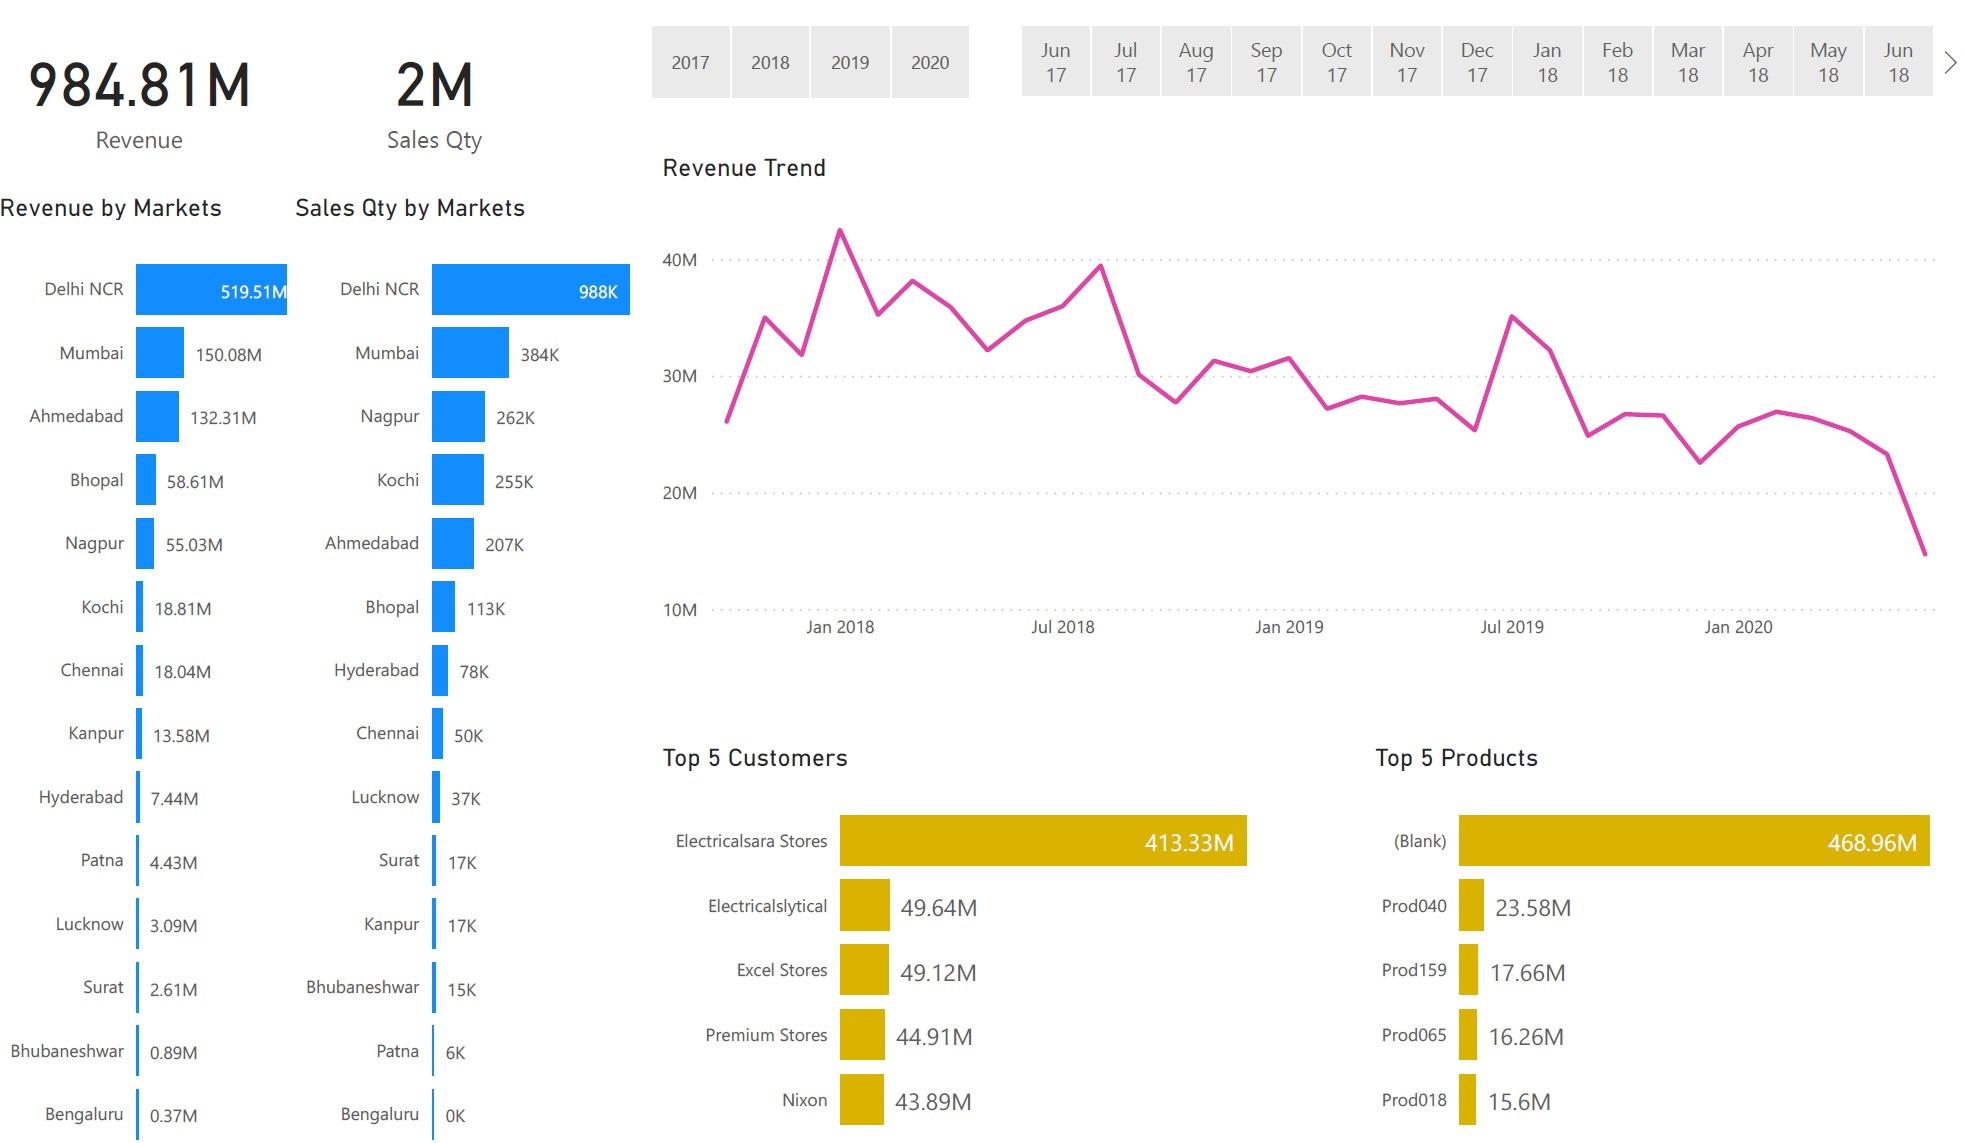

This screenshot's page, from the dashboard's own definition file:
{"tool":"powerbi","page":{"name":"Page 1","canvas":[1350,850],"ordinal":0},"visuals":[{"type":"card","fields":{"Values":["BaseMeasures.Revenue"]},"box":[0,19.8,201.2,137.9],"z":0},{"type":"card","fields":{"Values":["BaseMeasures.Sales Qty"]},"box":[201.6,19.8,200.9,137.5],"z":1000},{"type":"barChart","title":"Revenue by Markets","fields":{"Y":["BaseMeasures.Revenue"],"Category":["sales markets.markets_name"]},"box":[0,157.2,232.1,670.2],"z":2000},{"type":"barChart","title":"Sales Qty by Markets","fields":{"Y":["BaseMeasures.Sales Qty"],"Category":["sales markets.markets_name"]},"box":[201.6,157.2,240.2,670.2],"z":3000},{"type":"slicer","fields":{"Values":["sales date.cy_date"]},"box":[678.3,37.1,671.7,61.1],"z":4000},{"type":"slicer","fields":{"Values":["sales date.year"]},"box":[425,37.2,266.4,61.9],"z":5000},{"type":"barChart","title":"Top 5 Customers","fields":{"Y":["BaseMeasures.Revenue"],"Category":["sales customers.custmer_name"]},"box":[453.1,533.4,467.2,284.5],"z":6000},{"type":"barChart","title":"Top 5 Products","fields":{"Y":["BaseMeasures.Revenue"],"Category":["sales products.product_code"]},"box":[940,533.4,409.7,284.5],"z":6001},{"type":"lineChart","title":"Revenue Trend","fields":{"Y":["BaseMeasures.Revenue"],"Category":["sales date.cy_date"]},"box":[453.1,130.3,896.6,342],"z":6002}]}

Visuals, with their boxes on the page's 1350x850 design canvas (x1, y1, x2, y2). These are canvas units, not pixel positions in the 1964x1143 screenshot, which may show the page scaled, cropped or inside an application window:
card - BaseMeasures.Revenue: crop(0, 20, 201, 158)
card - BaseMeasures.Sales Qty: crop(202, 20, 402, 157)
"Revenue by Markets" barChart: crop(0, 157, 232, 827)
"Sales Qty by Markets" barChart: crop(202, 157, 442, 827)
slicer - sales date.cy_date: crop(678, 37, 1350, 98)
slicer - sales date.year: crop(425, 37, 691, 99)
"Top 5 Customers" barChart: crop(453, 533, 920, 818)
"Top 5 Products" barChart: crop(940, 533, 1350, 818)
"Revenue Trend" lineChart: crop(453, 130, 1350, 472)
